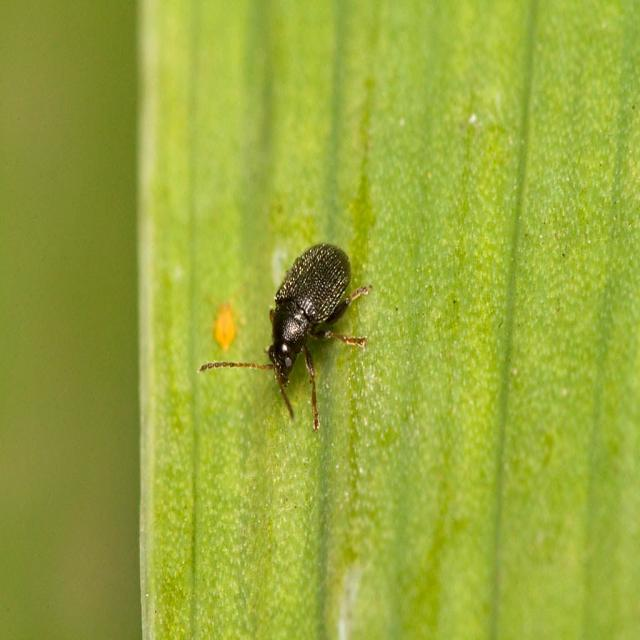flea_beetle: (192, 192, 376, 442)
